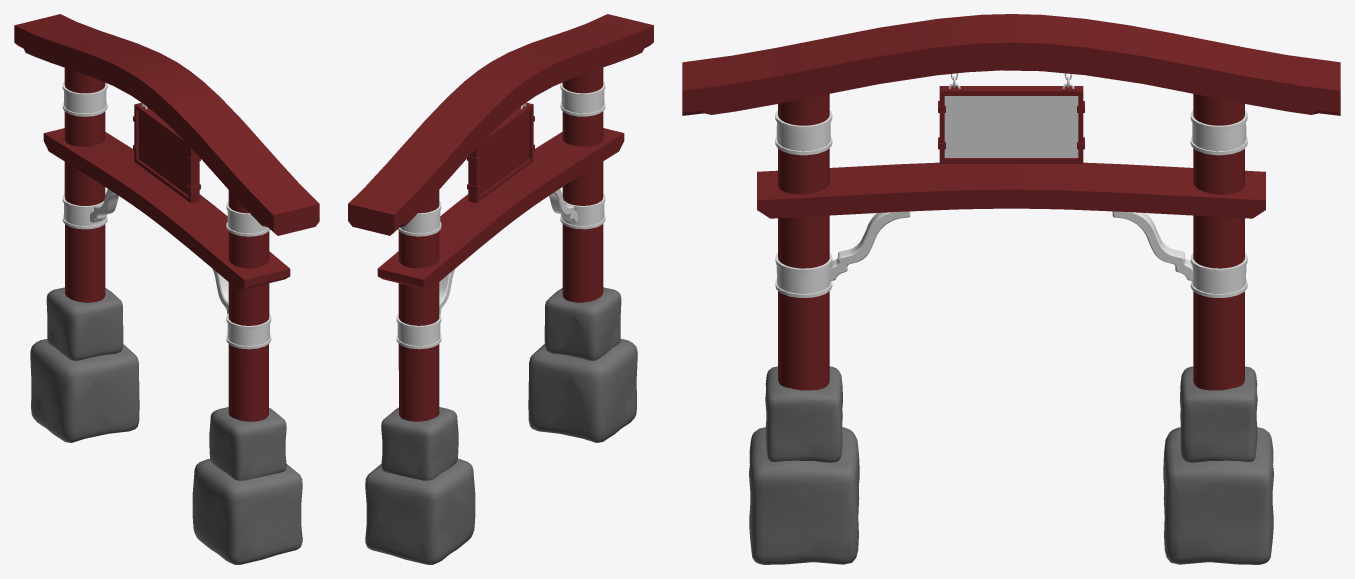
The model's file is IceCubeGate.fbx.
The picture shows the model from 3 angles, left to right: view 1: azimuth 30°, elevation 25°; view 2: azimuth 150°, elevation 25°; view 3: azimuth 270°, elevation 25°; orthographic projection. The views are drawn at different scales.
Parts seen in each view (by area): view 1: Cube.004, Cube.001, Cylinder, Cube, Cube.002, Cube.005, Cylinder.001, Cube.003; view 2: Cube.004, Cube.001, Cylinder, Cube, Cube.002, Cube.005, Cylinder.001, Cube.003; view 3: Cube.004, Cube.001, Cube, Cylinder, Cube.002, Cube.005, Cylinder.001, Cube.003.
Part boxes in pixels (x1=…): Cube.004: x1=14, y1=14, x2=319, y2=235; Cube.001: x1=30, y1=339, x2=302, y2=564; Cylinder: x1=64, y1=68, x2=269, y2=421; Cube: x1=43, y1=128, x2=290, y2=290; Cube.002: x1=46, y1=287, x2=286, y2=480; Cube.005: x1=133, y1=102, x2=200, y2=203; Cylinder.001: x1=62, y1=81, x2=271, y2=349; Cube.003: x1=90, y1=189, x2=228, y2=313; Cube.004: x1=348, y1=14, x2=653, y2=235; Cube.001: x1=365, y1=339, x2=637, y2=564; Cylinder: x1=398, y1=67, x2=603, y2=421; Cube: x1=377, y1=128, x2=624, y2=290; Cube.002: x1=381, y1=287, x2=621, y2=480; Cube.005: x1=467, y1=102, x2=534, y2=203; Cylinder.001: x1=396, y1=81, x2=605, y2=349; Cube.003: x1=439, y1=189, x2=577, y2=314; Cube.004: x1=682, y1=14, x2=1340, y2=115; Cube.001: x1=749, y1=427, x2=1273, y2=564; Cube: x1=757, y1=162, x2=1265, y2=218; Cylinder: x1=778, y1=94, x2=1244, y2=390; Cube.002: x1=765, y1=366, x2=1257, y2=462; Cube.005: x1=938, y1=86, x2=1084, y2=163; Cylinder.001: x1=775, y1=110, x2=1247, y2=297; Cube.003: x1=829, y1=211, x2=1193, y2=280.
Bounding box in the file's own units: 240 × 1207 × 1384.
